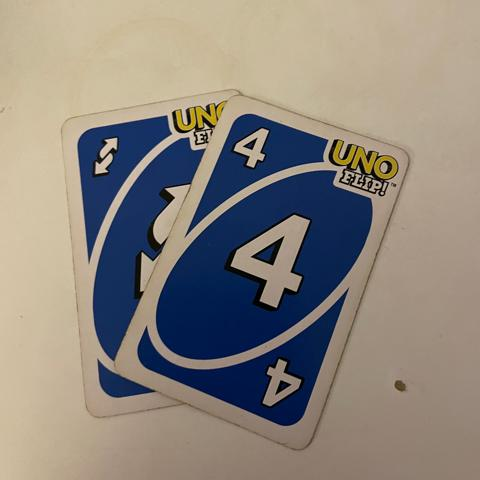lblue-4: (225, 115, 283, 182)
lbluerevers-20: (77, 124, 137, 188)
